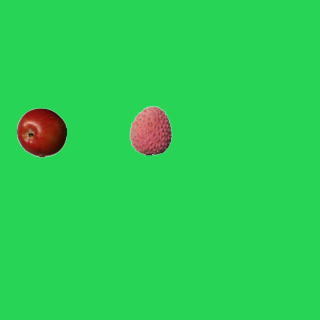Apple Braeburn: (16, 107, 66, 157)
Lychee: (125, 105, 175, 155)
